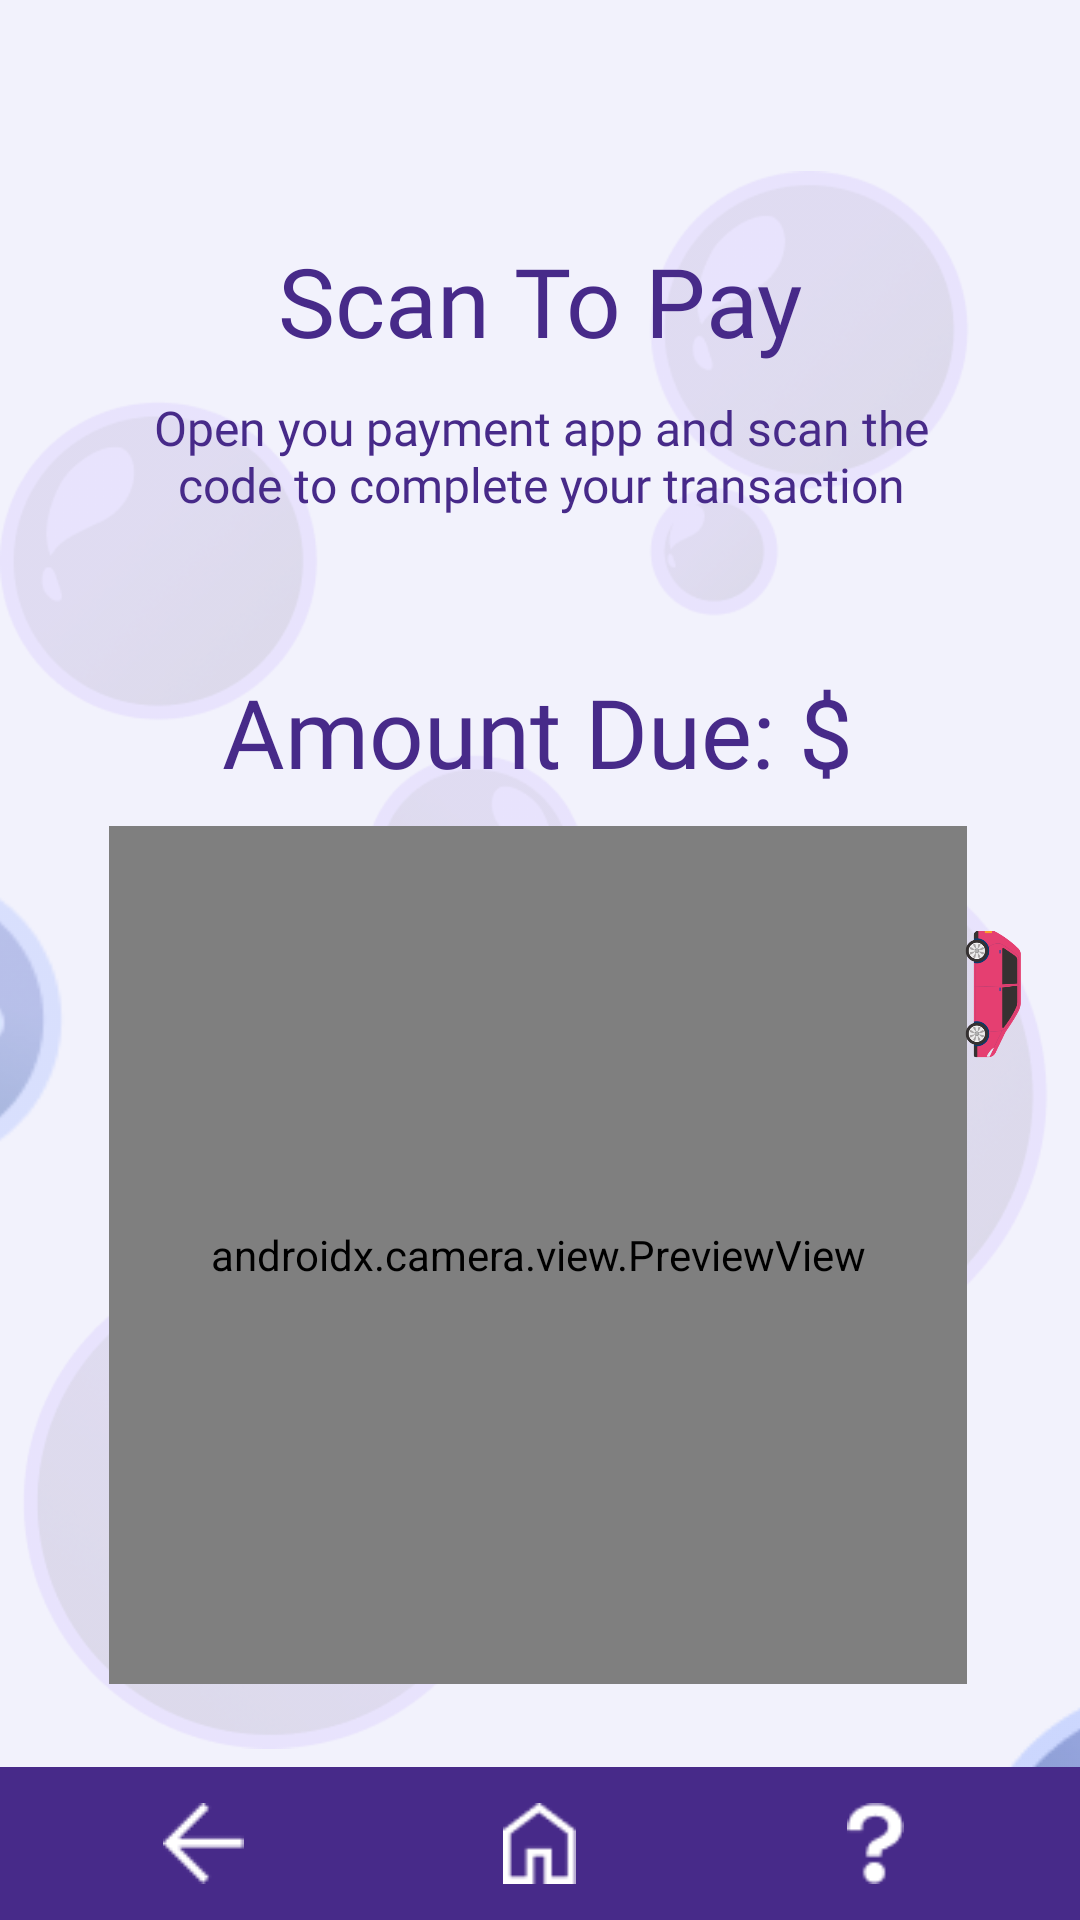

Icons on this 1080w x 1920h Android screen, each with its box as (x1, y1, x2, y2):
Back Button: (163, 1803, 244, 1884)
Help Button: (847, 1803, 904, 1884)
Home Button: (503, 1803, 576, 1884)
